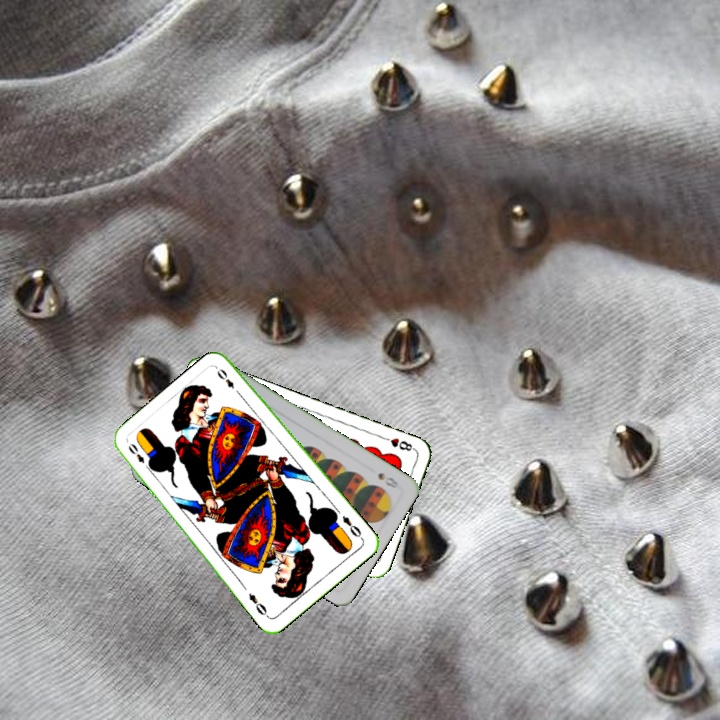EO: (124, 439, 154, 473), (338, 511, 365, 542)
H8: (378, 433, 417, 454)
S8: (374, 468, 402, 491)
